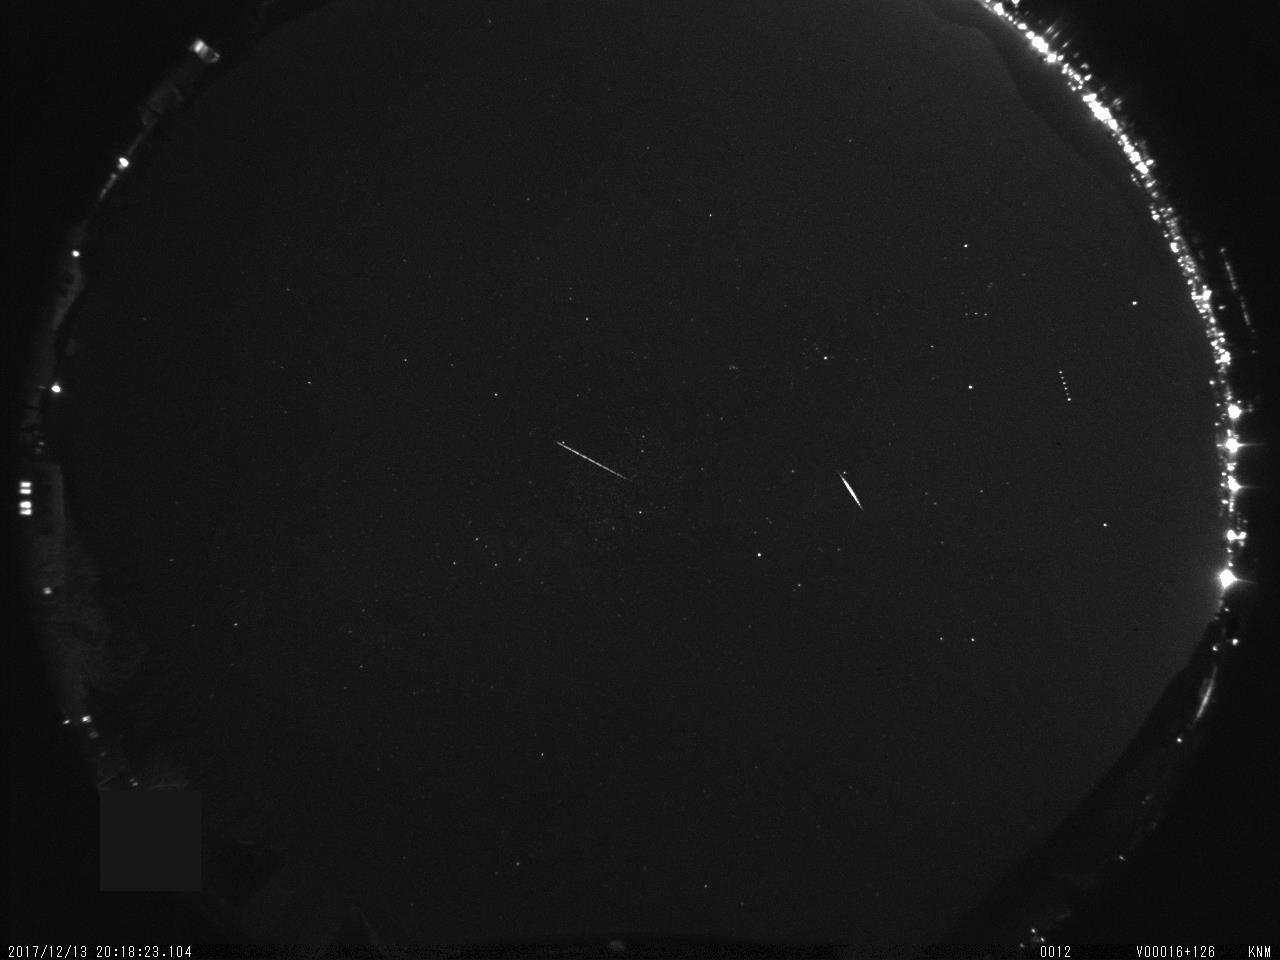meteor: (552, 438, 637, 490), (833, 467, 872, 523)
